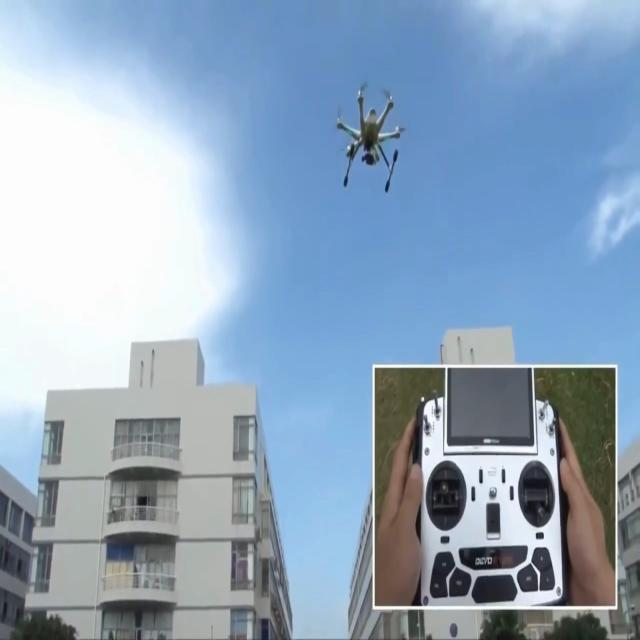drone: (336, 81, 406, 193)
